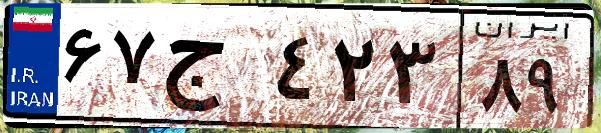2: (330, 28, 385, 110)
3: (385, 28, 445, 110)
4: (270, 28, 330, 110)
6: (57, 26, 110, 100)
7: (110, 28, 158, 98)
8: (475, 38, 525, 113)
9: (525, 38, 570, 115)
ج: (158, 20, 270, 120)
